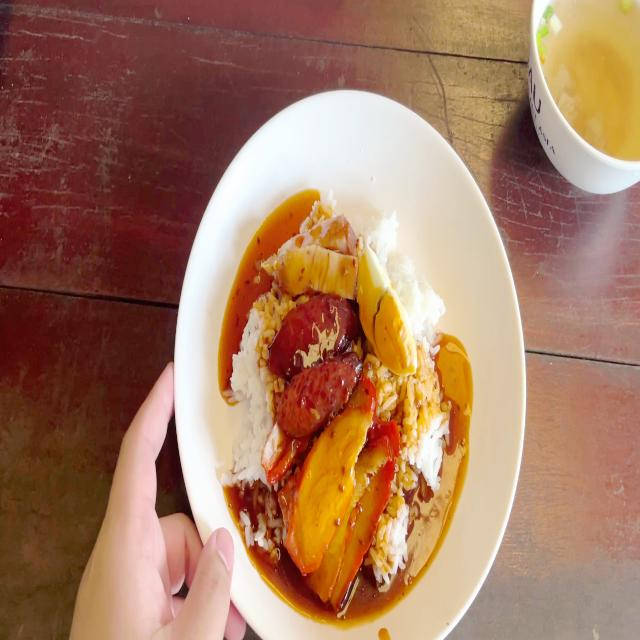boiled_egg: (362, 251, 417, 375)
chainese_sausage: (272, 295, 356, 426), (265, 301, 357, 377), (281, 359, 358, 433)
crispy_pork: (265, 215, 356, 293), (273, 258, 354, 286)
red_pork: (284, 380, 399, 602), (282, 393, 371, 558), (316, 432, 398, 599), (262, 432, 286, 486)
red_pork_and_crispy_pork: (232, 196, 444, 590)
rice: (371, 220, 448, 316), (234, 281, 270, 480), (406, 359, 450, 473), (374, 490, 415, 582)
